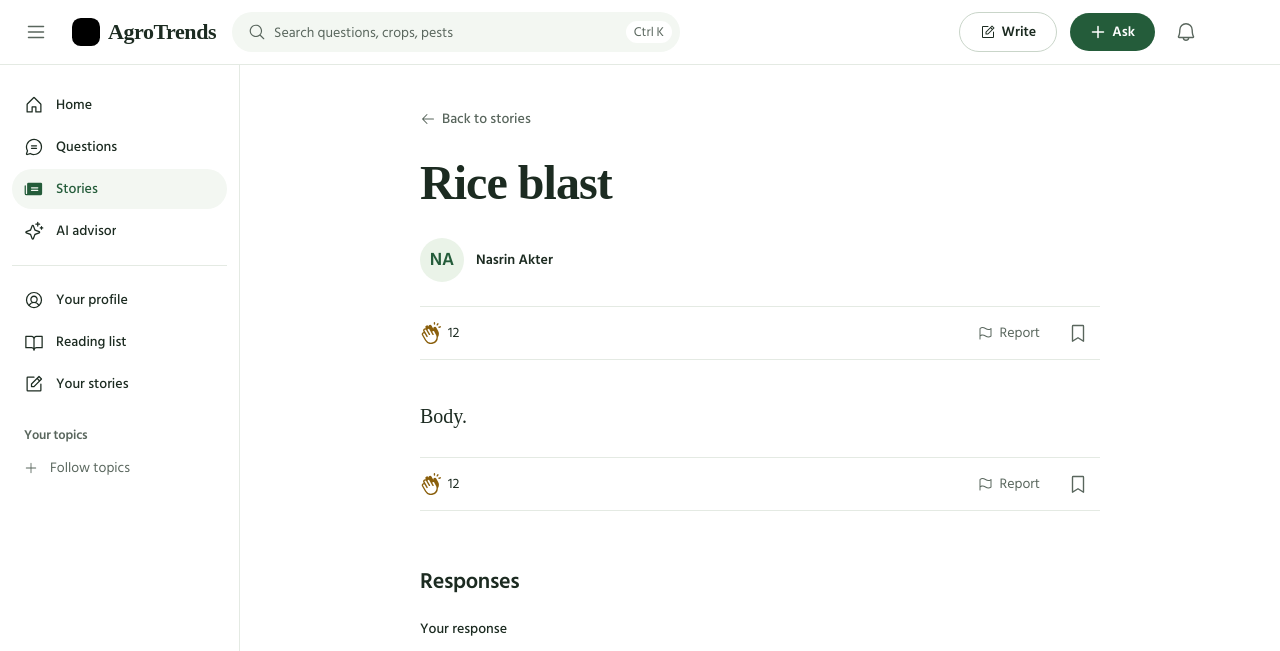
a burst of claps is sent as one request
What coordinates should you click on to do the following:
click the button named "Clap for this story"
I would click on:
 (444, 333)
Its box is left=420, top=311, right=468, bottom=355.
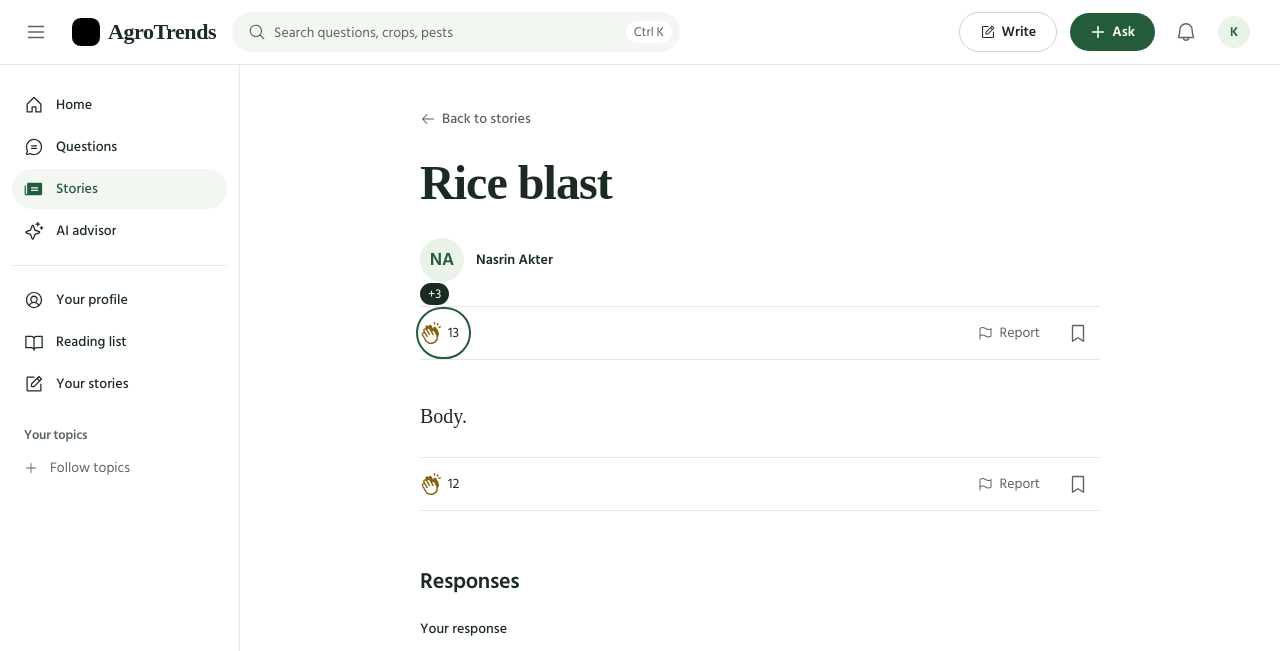
What coordinates should you click on to do the following:
click the button named "Clap for this story"
I would click on:
 (444, 333)
Its box is left=420, top=311, right=467, bottom=355.
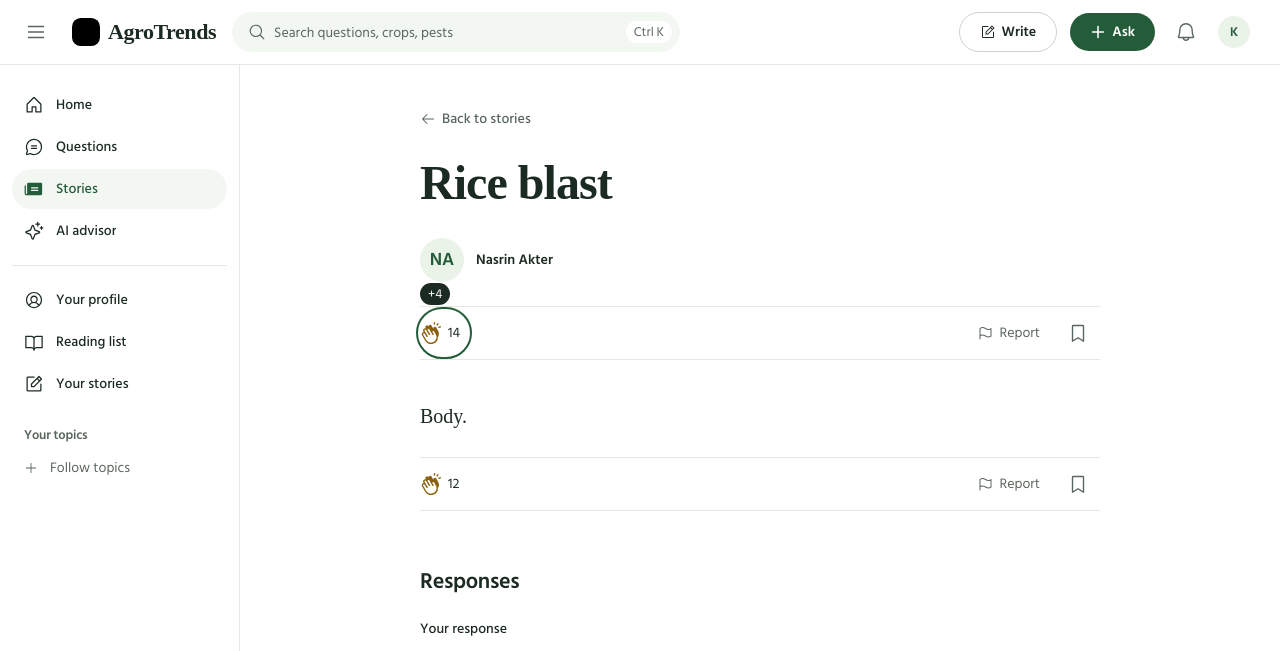
What coordinates should you click on to do the following:
click the button named "Clap for this story"
I would click on:
 (444, 333)
Its box is left=420, top=311, right=468, bottom=355.
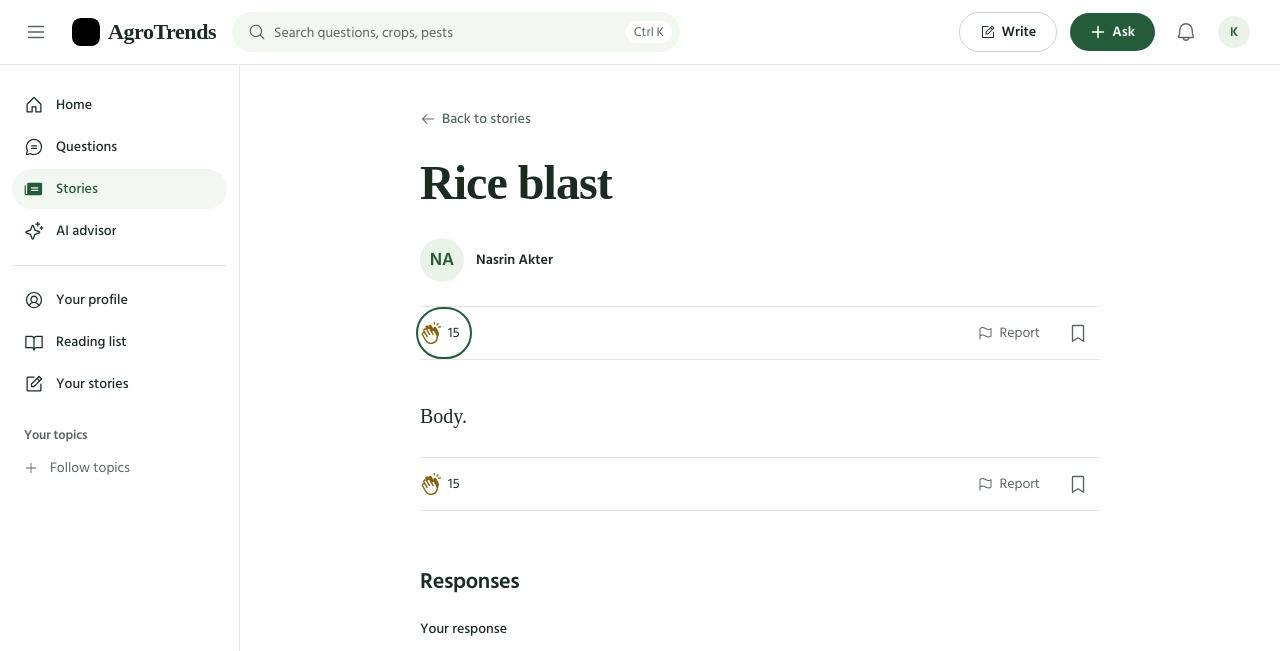
Check: the button named "Clap for this story" reads "15", box left=420, top=311, right=468, bottom=355
